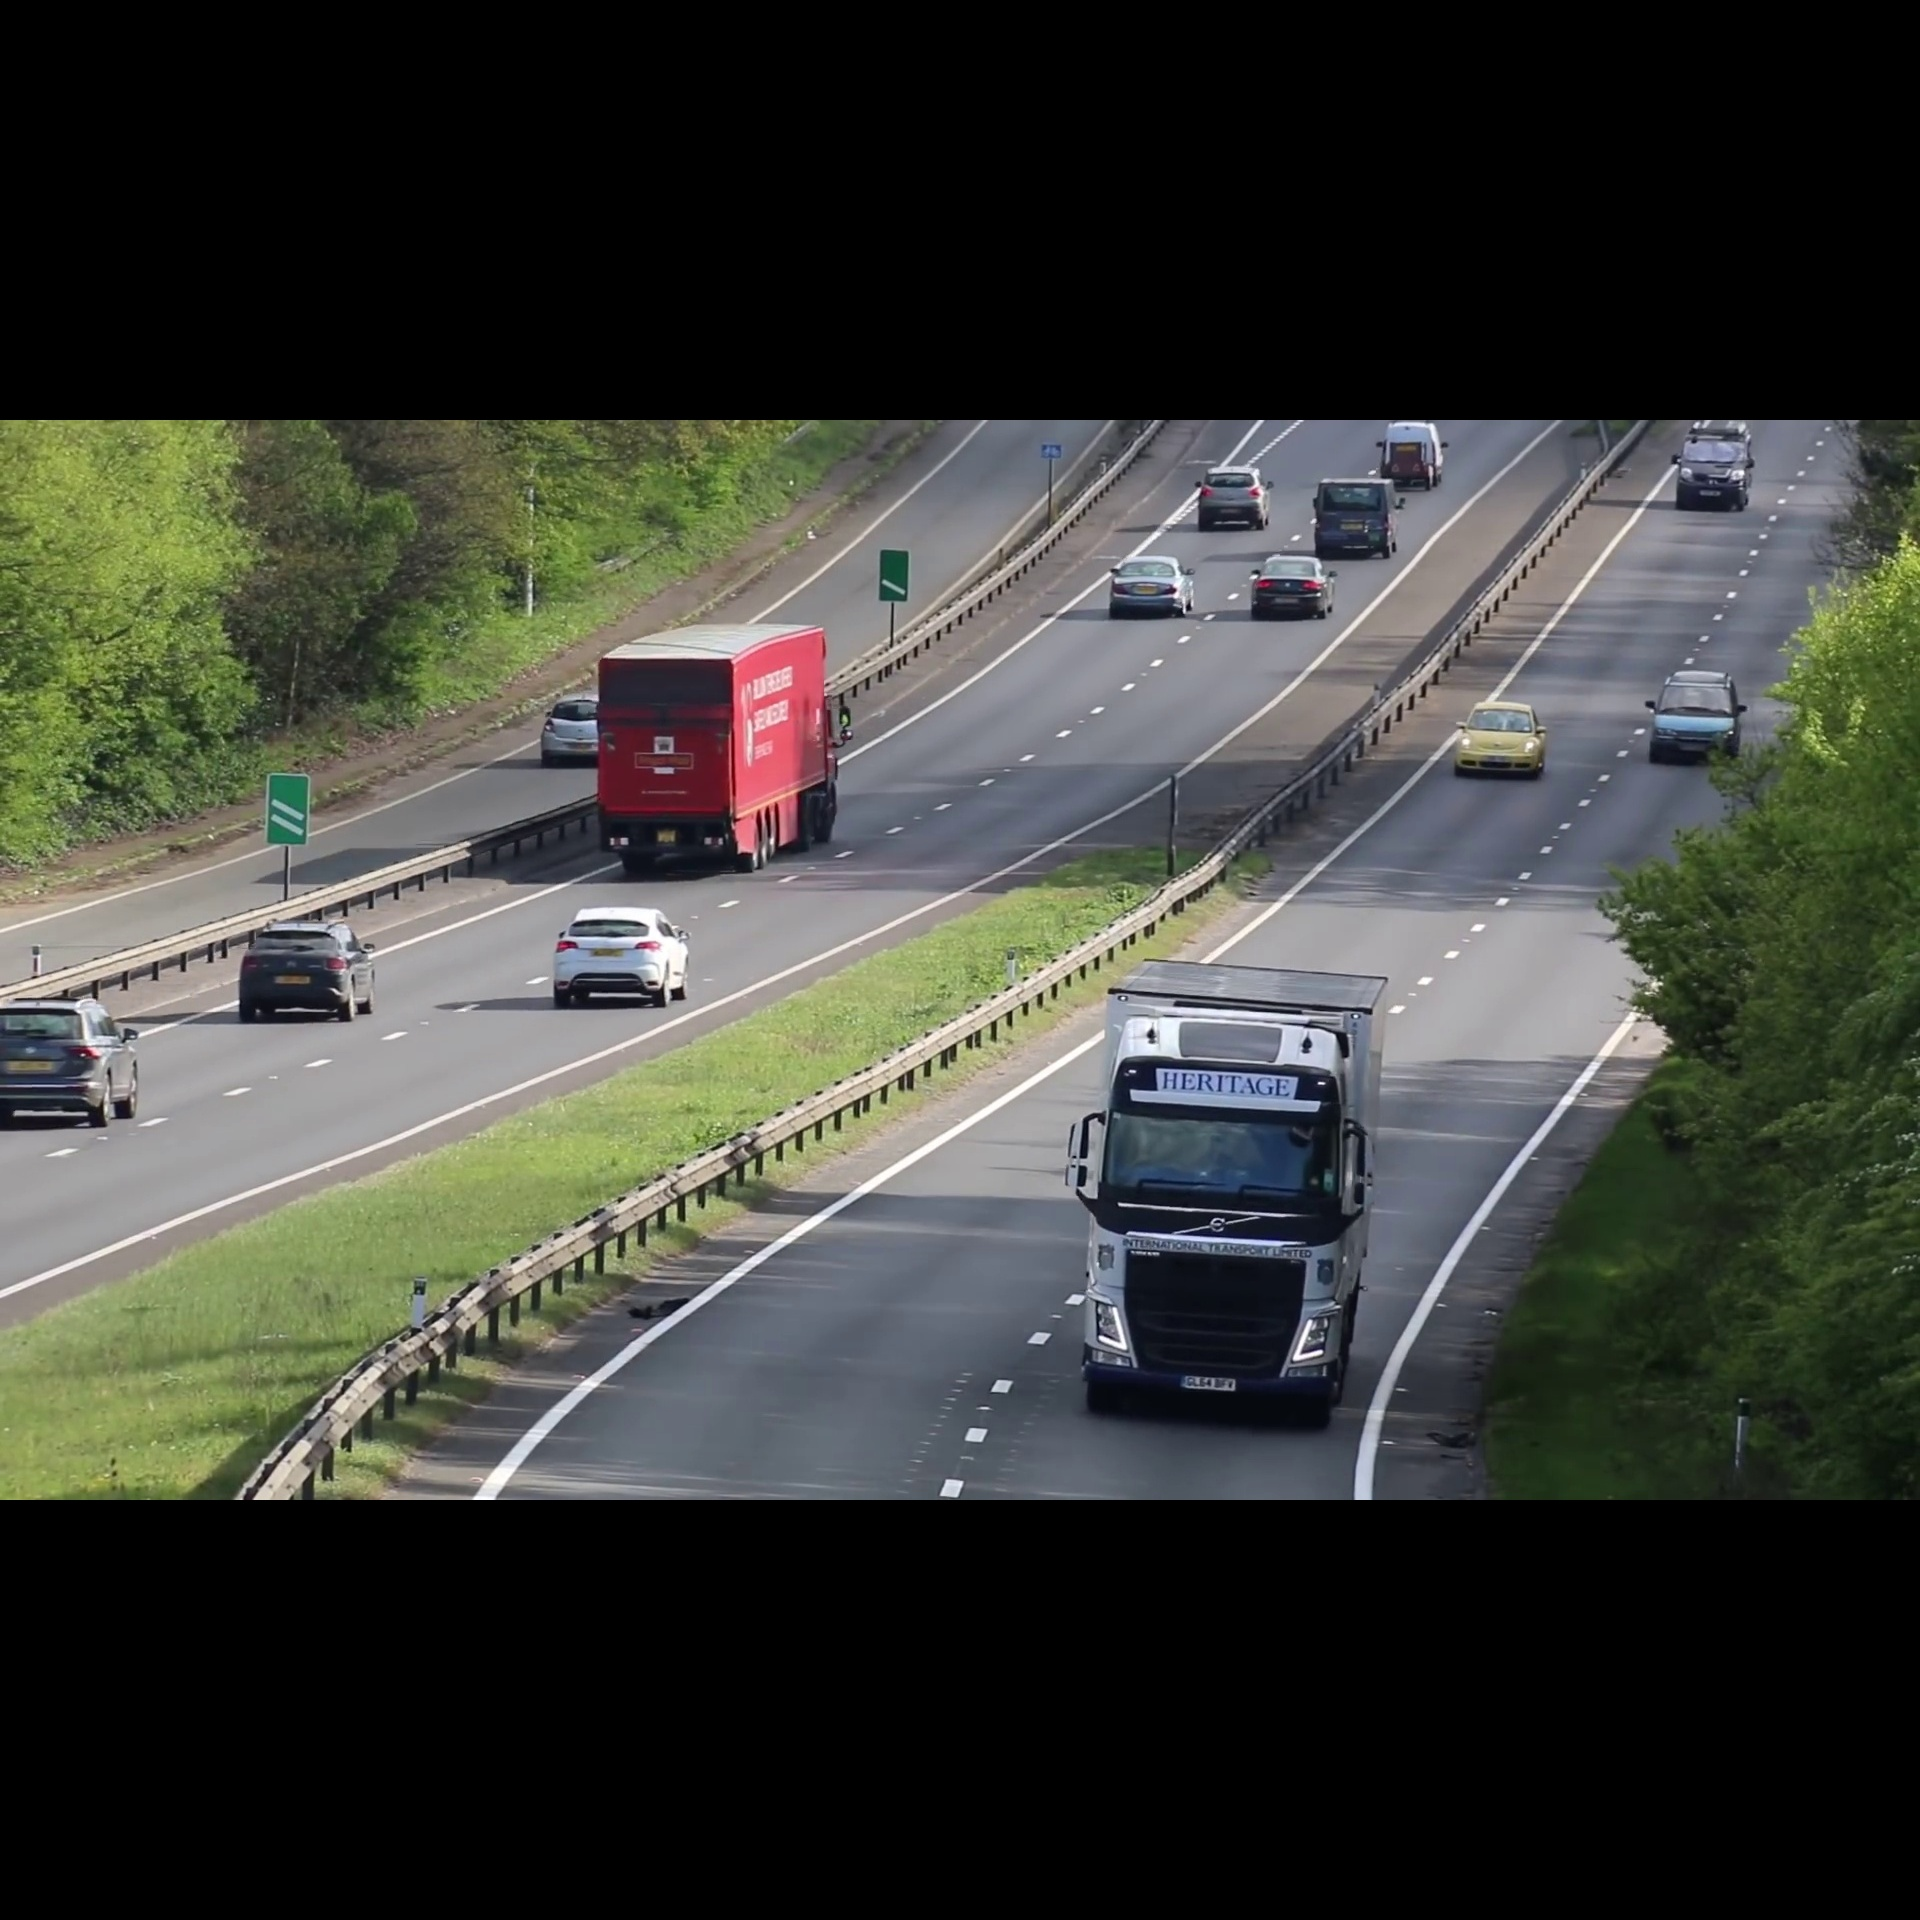vehicle: (1067, 949, 1398, 1442), (593, 617, 853, 879), (2, 983, 149, 1132), (547, 898, 695, 1015), (234, 913, 376, 1027), (1640, 665, 1748, 768), (1452, 696, 1553, 781), (1670, 420, 1756, 513), (1308, 478, 1405, 557), (1104, 549, 1196, 619), (1245, 554, 1340, 621), (1192, 462, 1276, 533), (1375, 420, 1449, 489), (535, 689, 600, 765)
